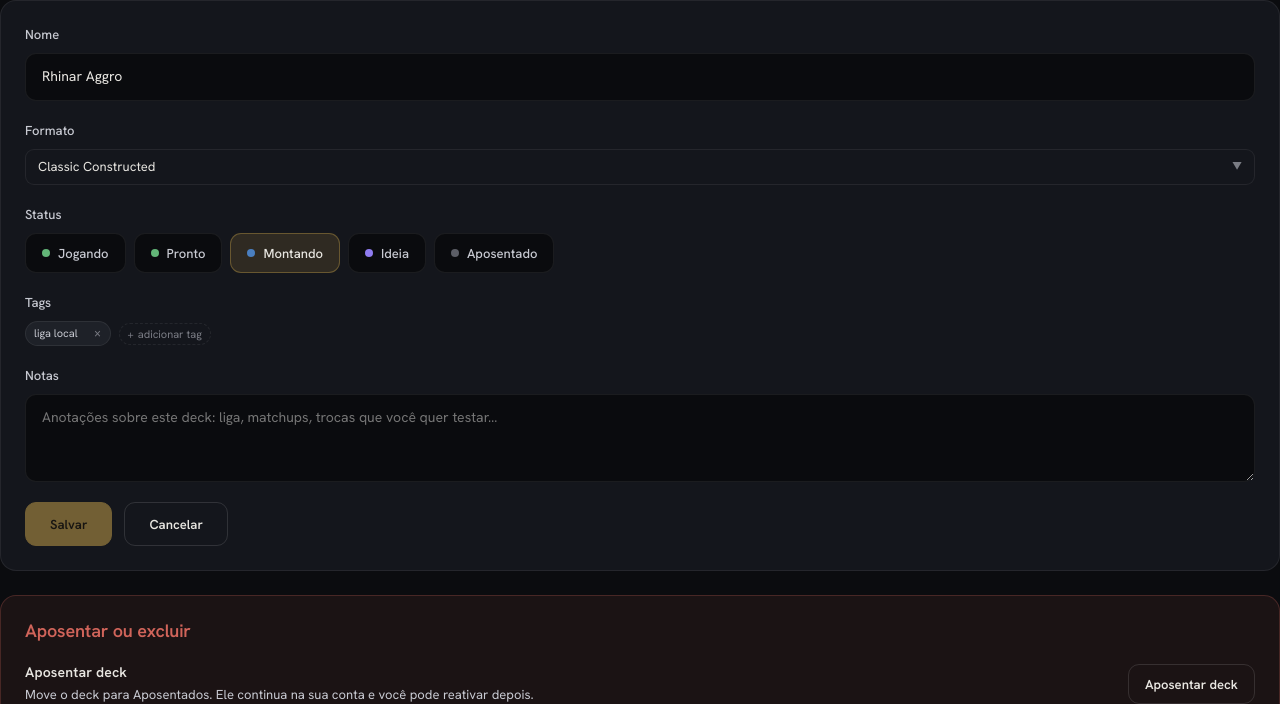
Test case: DeckEditForm: saving › clears the save error as soon as the user edits again
The width and height of the screenshot is (1280, 704).
Replace the text in the field with test id "deck-edit-name" with "Rhinar Control" at (640, 77), box [25,53,1255,101]
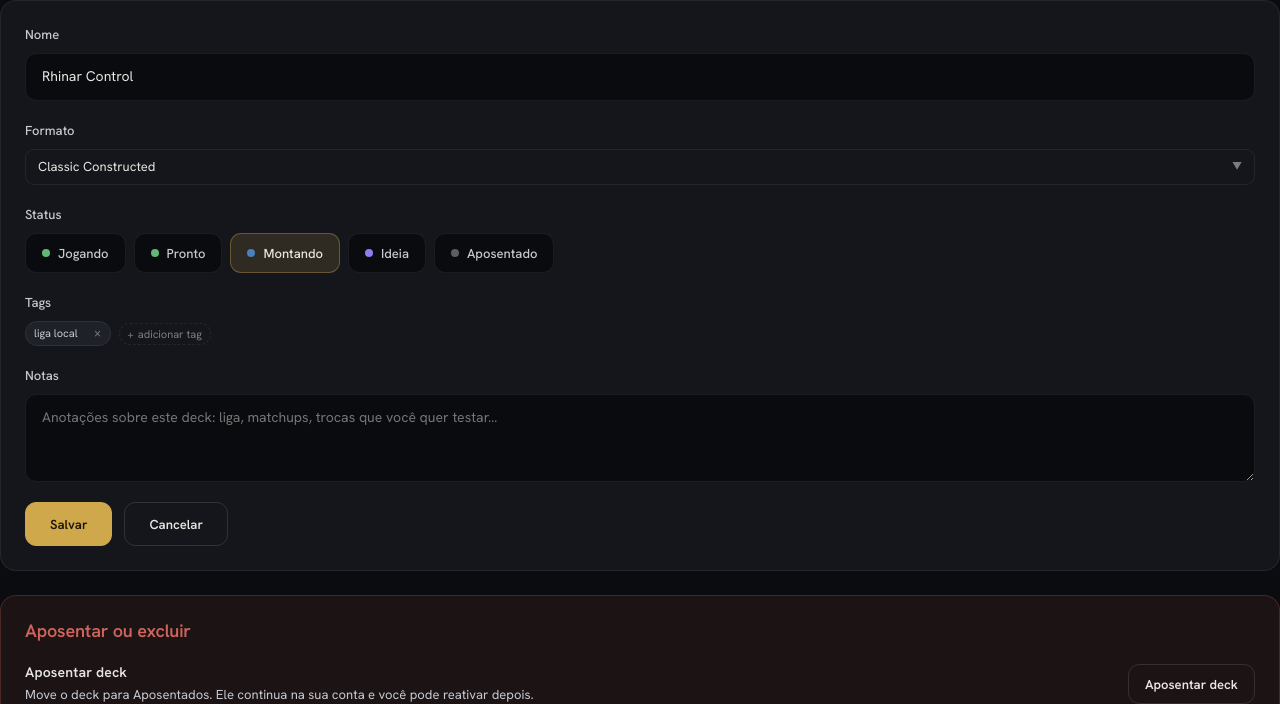
Click the button with test id "deck-edit-save" at (69, 524), box [25,502,112,546]
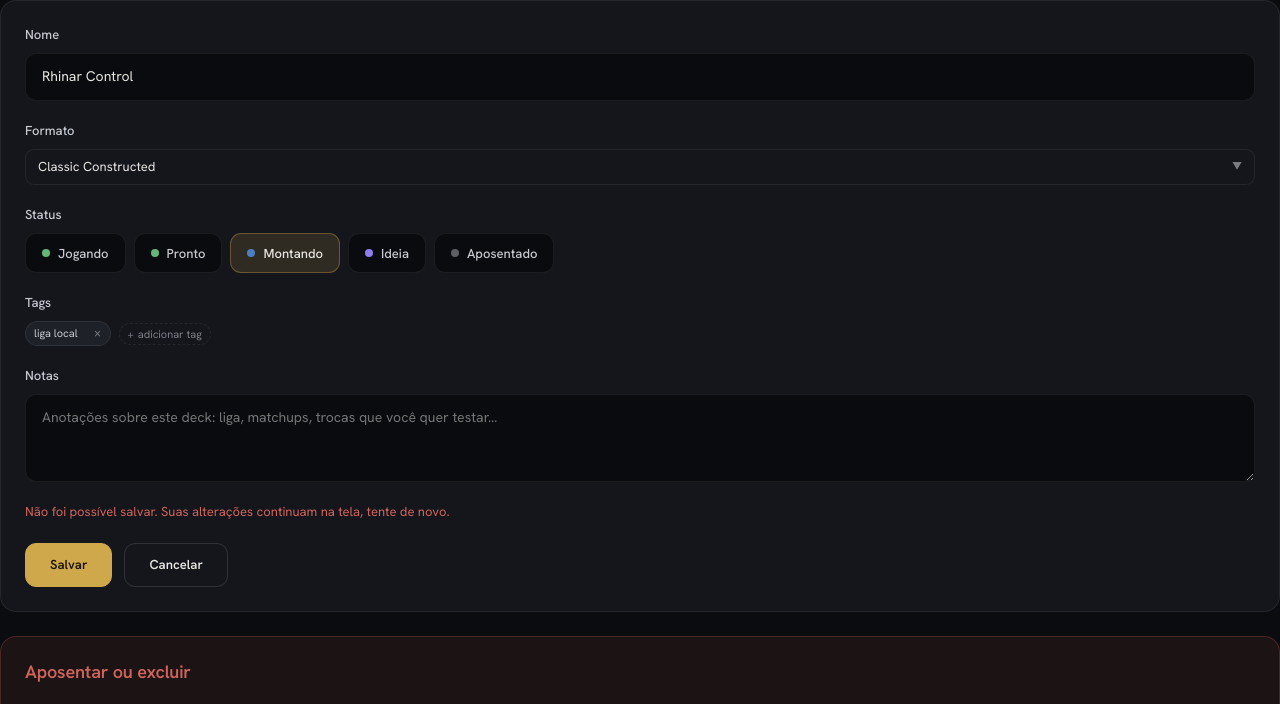
Replace the text in the text box with test id "deck-edit-notes" with "x" at (640, 438), box [25,394,1255,482]
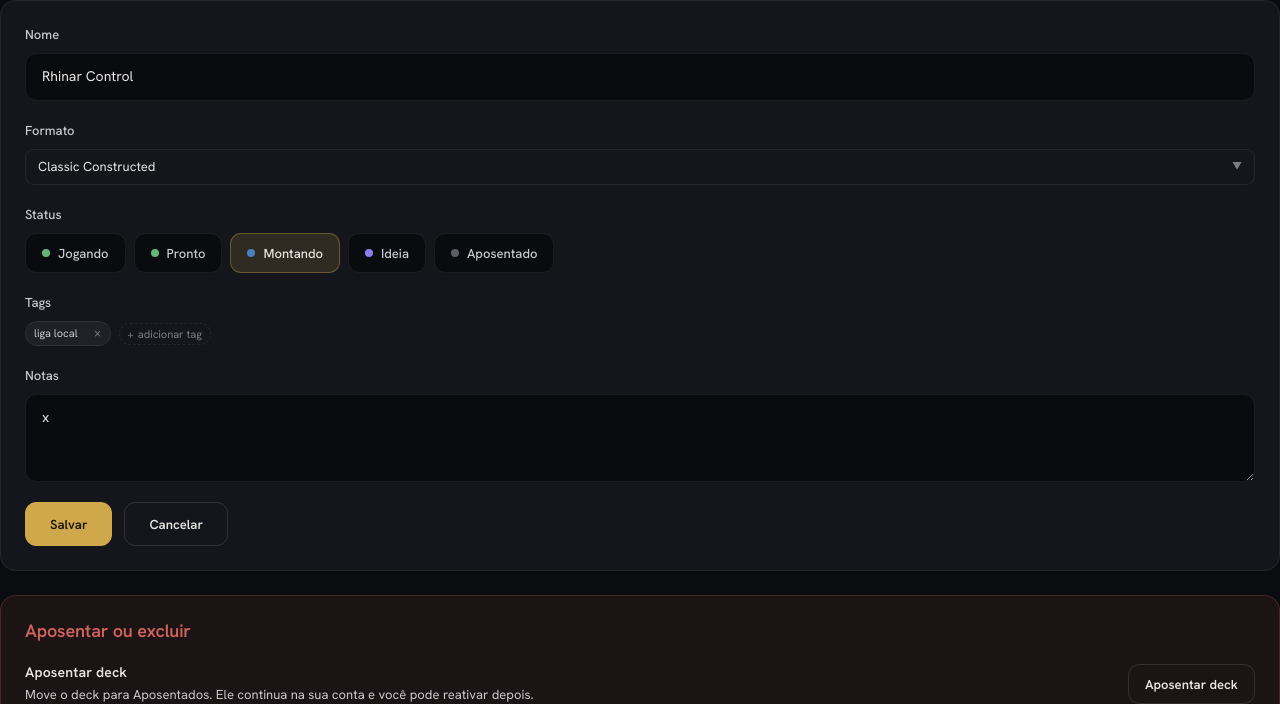
Expected: the message with test id "deck-edit-save-error" is gone
